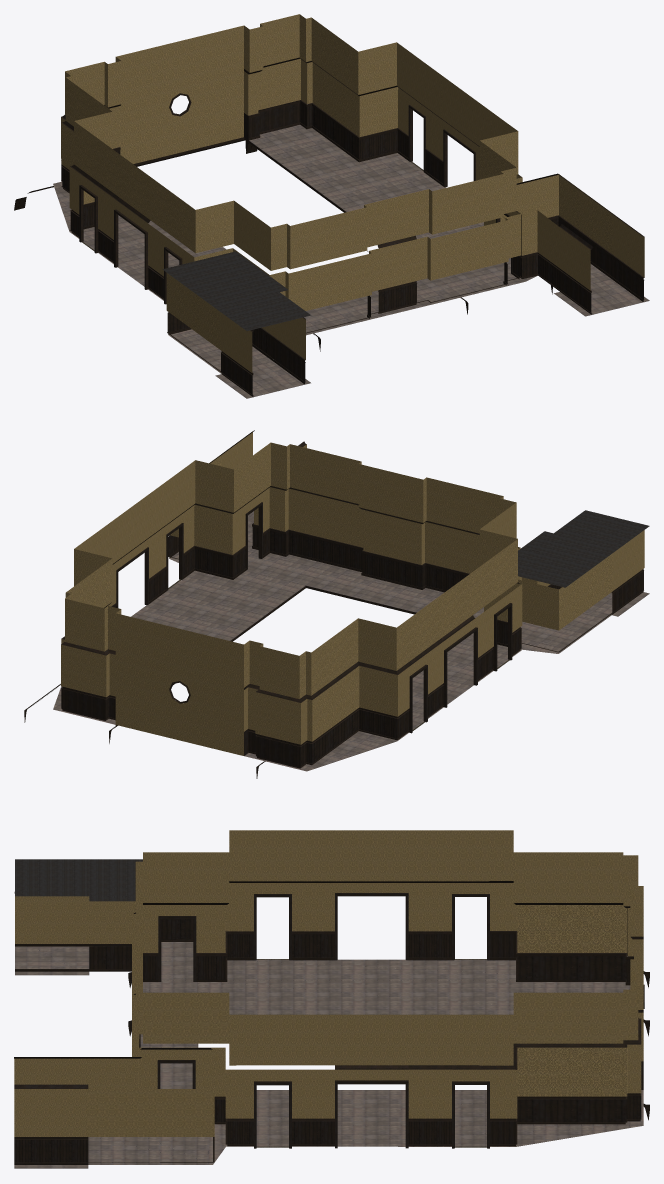
Rendered from #LVL_Entracehall-3.fbx.
3 renders of one model, top to bottom at view 1: azimuth 30°, elevation 25°; view 2: azimuth 150°, elevation 25°; view 3: azimuth 270°, elevation 25°, orthographic. The views are drawn at different scales.
Visible parts, largest first — view 1: 1gangobj_002; view 2: 1gangobj_002; view 3: 1gangobj_002.
Boxes of the visible parts, box(x1,y1,x2,y2) form: 1gangobj_002: box(14, 14, 649, 398); 1gangobj_002: box(24, 430, 649, 778); 1gangobj_002: box(14, 830, 649, 1168).
Bounding box in the file's own units: 74.79 × 23.26 × 87.36.
